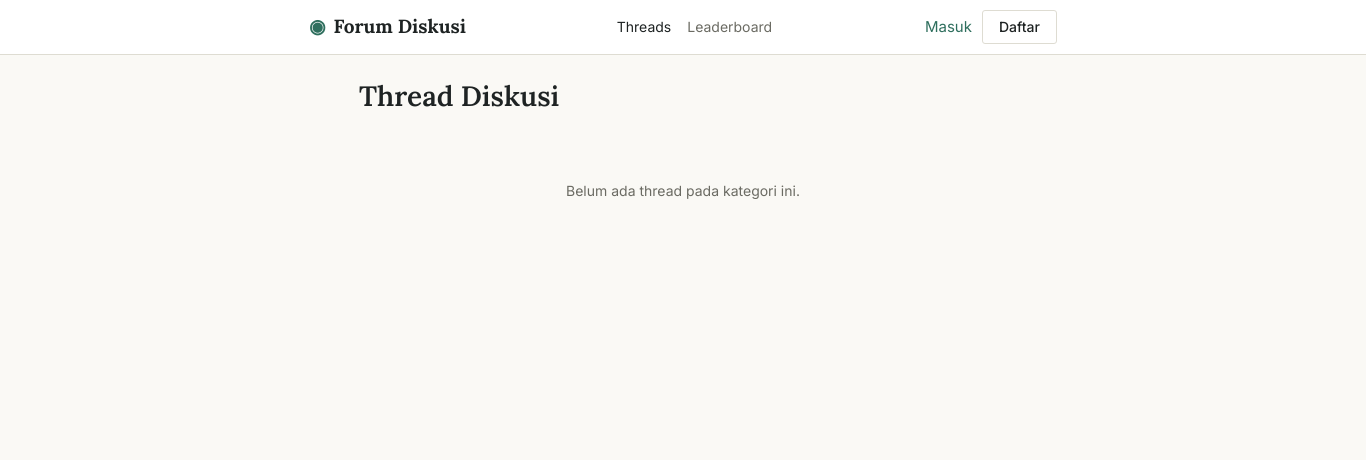
Scenario: Login Aplikasi Forum Diskusi › menampilkan halaman login dengan benar
Click the link "Masuk" at (949, 27), box [923,11,974,42]
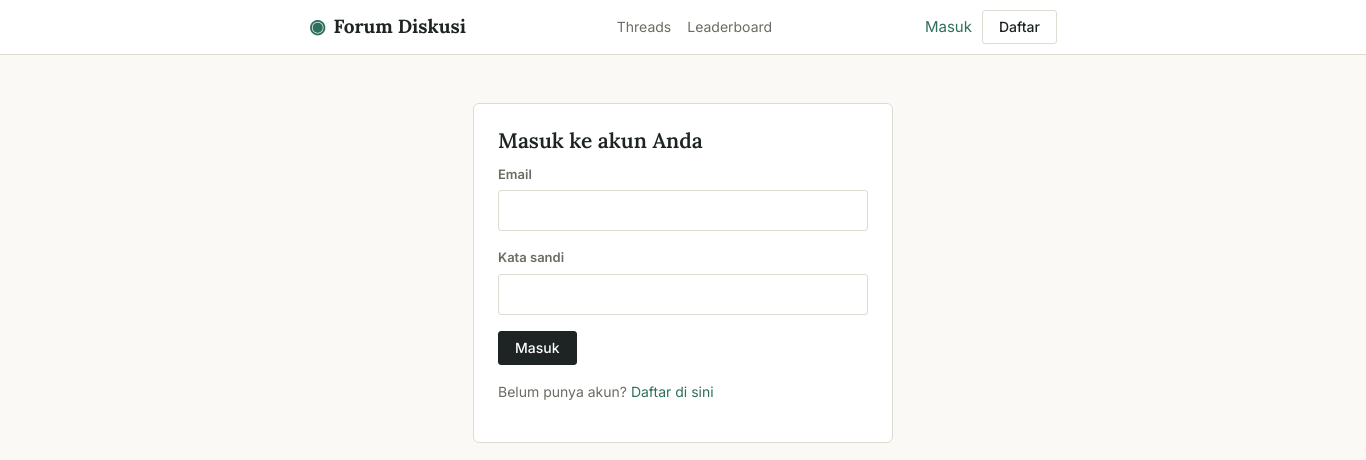
expect the field named "email" is shown: met, box [498,190,868,231]
expect the password field named "password" is shown: met, box [498,274,868,315]
expect the button "Masuk" is shown: met, box [498,330,576,364]
